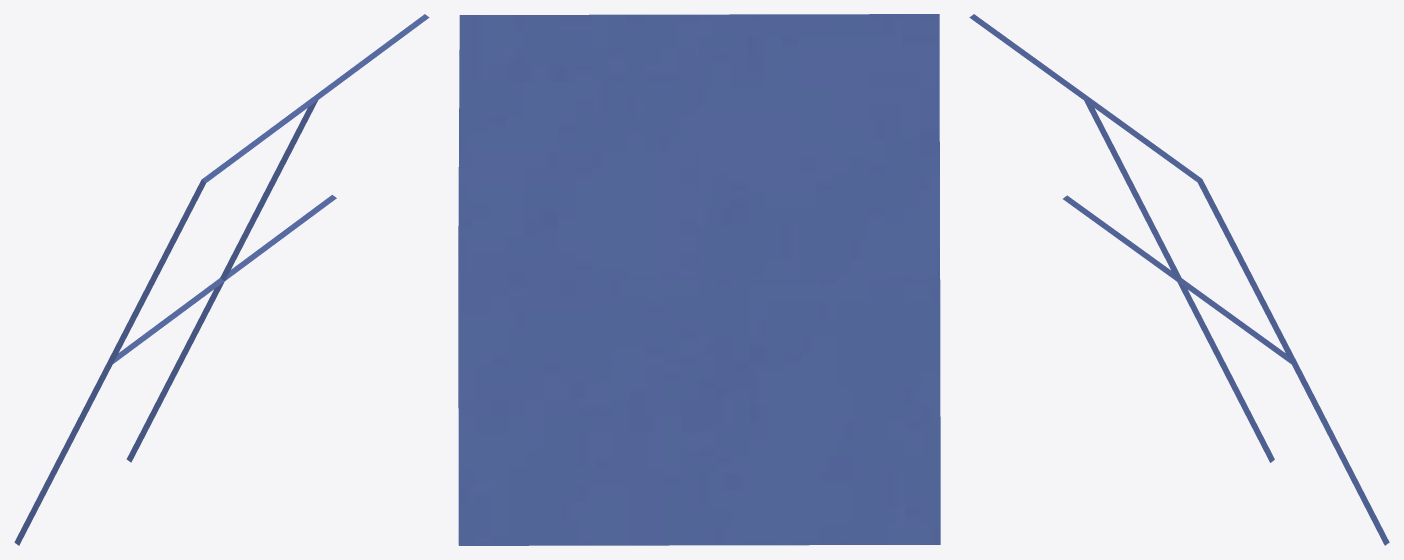
3 renders of one model, left to right at view 1: azimuth 30°, elevation 25°; view 2: azimuth 150°, elevation 25°; view 3: azimuth 270°, elevation 25°, orthographic. The views are drawn at different scales.
Size of the model in its own units: 19679 by 17787 by 16479.
Materials: 1 (1 with a texture image).
